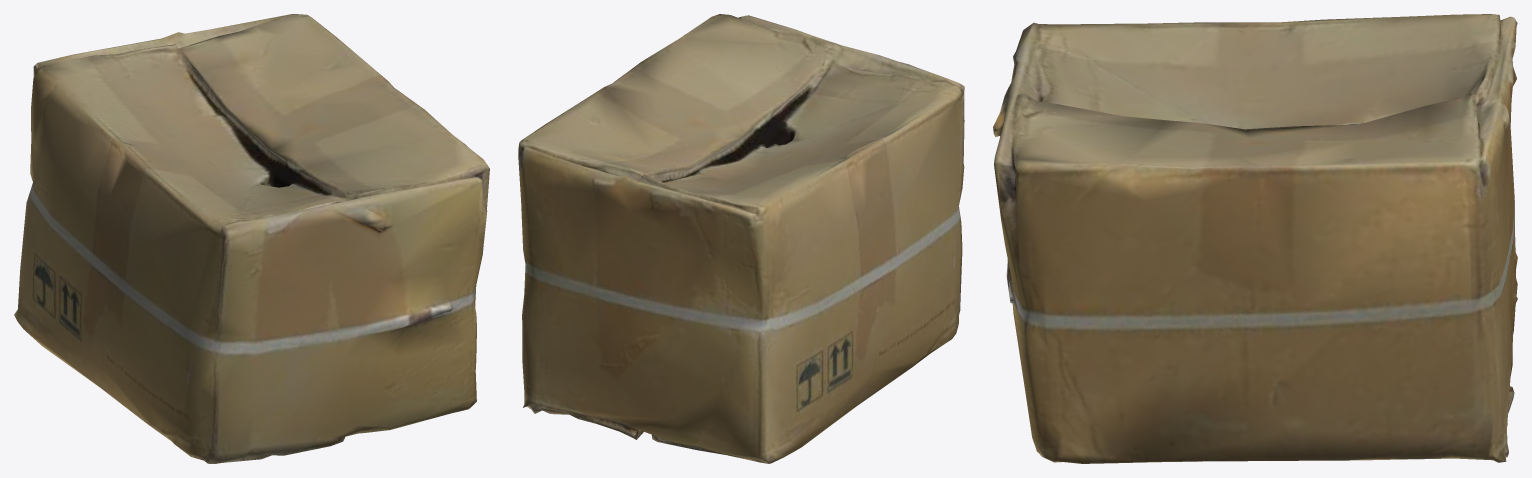
The model's file is cardboard_box_01.glb.
3 renders of one model, left to right at view 1: azimuth 30°, elevation 25°; view 2: azimuth 150°, elevation 25°; view 3: azimuth 270°, elevation 25°, orthographic. The views are drawn at different scales.
Parts seen in each view (by area): view 1: cardboard_box_01; view 2: cardboard_box_01; view 3: cardboard_box_01.
Boxes of the visible parts, box(x1,y1,x2,y2) form: cardboard_box_01: box(14, 14, 489, 463); cardboard_box_01: box(518, 14, 964, 463); cardboard_box_01: box(993, 14, 1517, 463).
Size of the model in its own units: 0.3868 by 0.3407 by 0.5159.
1 material, 1 textured.
